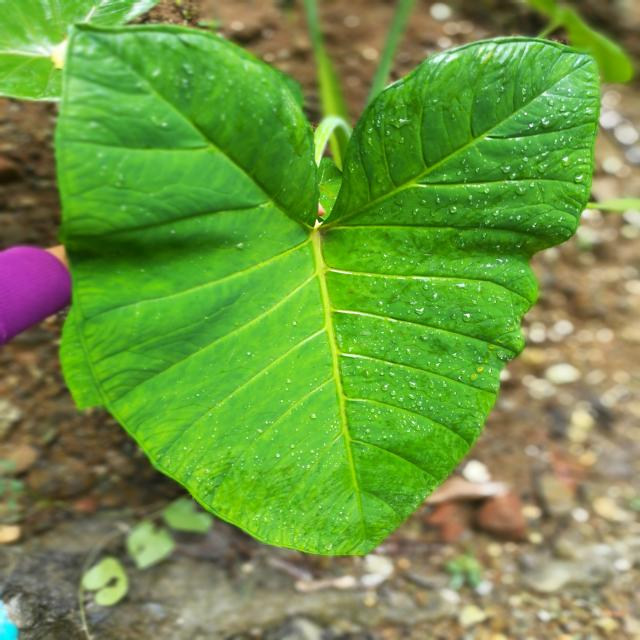taro: (55, 25, 598, 554)
